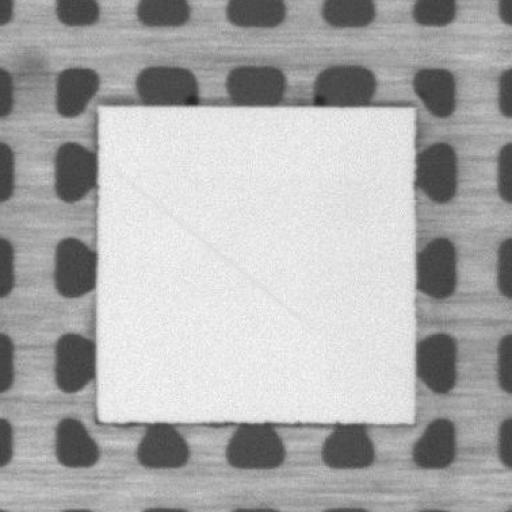DIE_CRACK: (116, 172, 297, 317)
